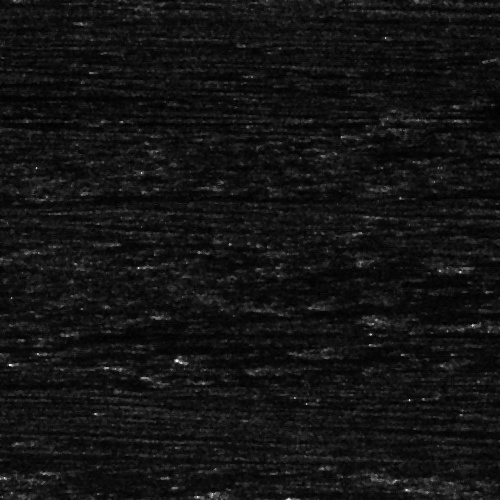object: (394, 109, 467, 120), (193, 486, 266, 495), (458, 99, 500, 108)
shadow: (229, 486, 402, 495), (0, 92, 155, 99), (431, 109, 500, 120)
